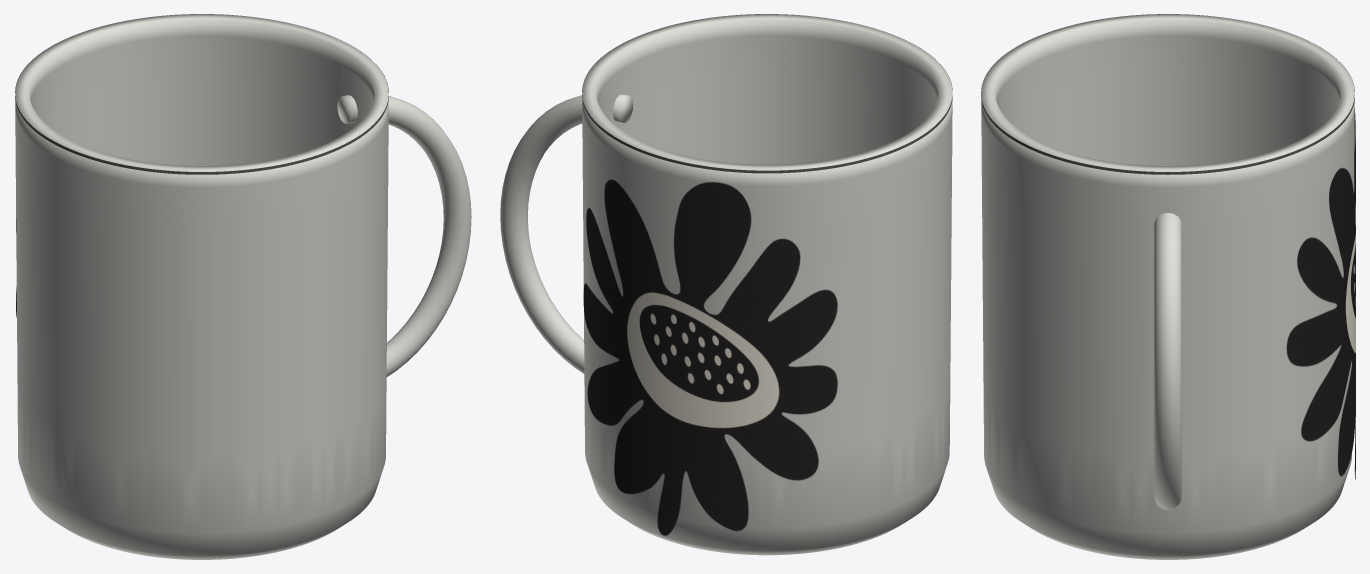
3 views of the same model, side by side, from view 1: azimuth 30°, elevation 25°; view 2: azimuth 150°, elevation 25°; view 3: azimuth 270°, elevation 25° (orthographic).
Parts seen in each view (by area): view 1: body; view 2: body; view 3: body.
Part boxes in pixels (x1,y1,x2,y2): body: [15, 14, 471, 559]; body: [500, 14, 952, 555]; body: [981, 14, 1355, 559].
Size of the model in its own units: 0.1129 by 0.1 by 0.0853.
3 materials, 1 textured.
